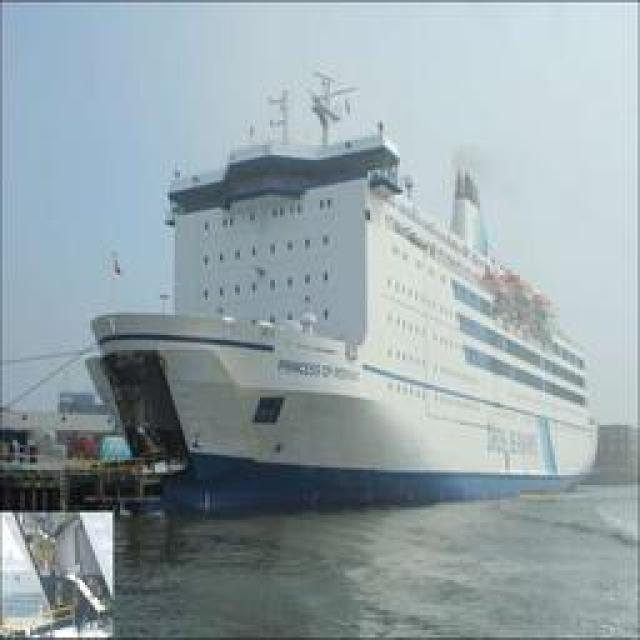CIV_Ship: (59, 121, 606, 489)
